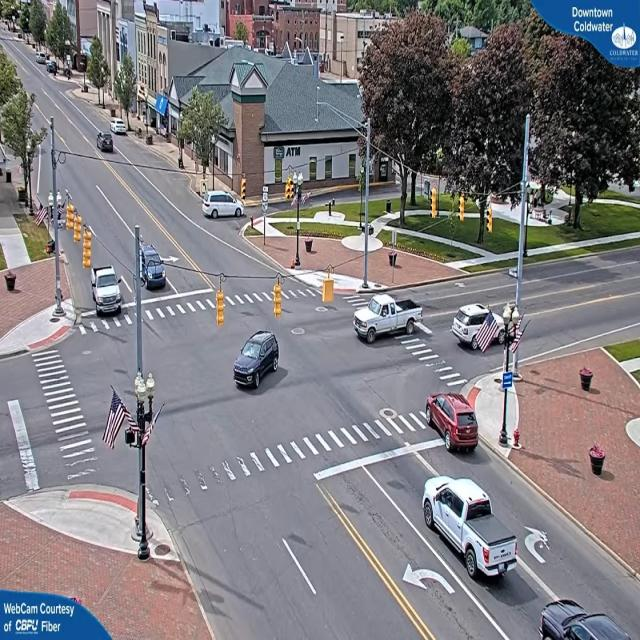car: (421, 476, 513, 584), (539, 602, 640, 638), (426, 394, 481, 455), (351, 293, 417, 343), (232, 332, 281, 391), (452, 305, 508, 354), (95, 267, 125, 314), (202, 190, 246, 220), (139, 243, 167, 289), (96, 130, 115, 152), (112, 119, 128, 137)
